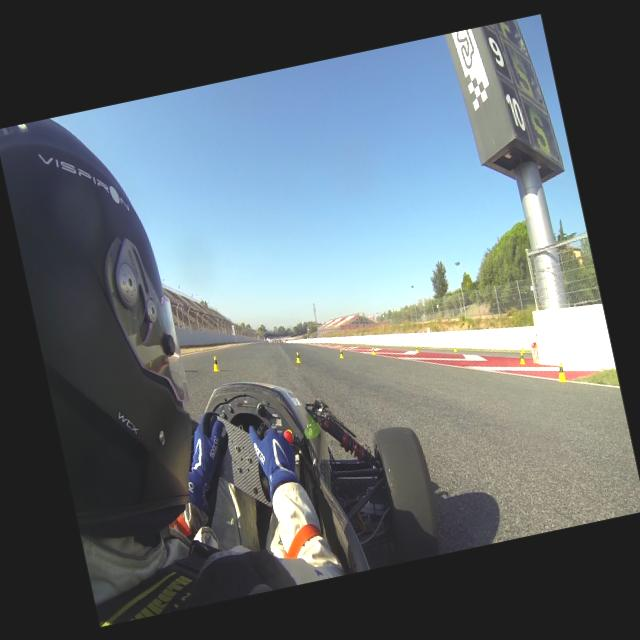yellow_cone: (555, 360, 567, 382), (210, 355, 220, 372), (518, 352, 525, 364), (293, 352, 300, 362), (338, 348, 343, 358), (413, 346, 418, 352), (370, 347, 374, 354), (520, 345, 524, 352), (453, 346, 457, 352)
